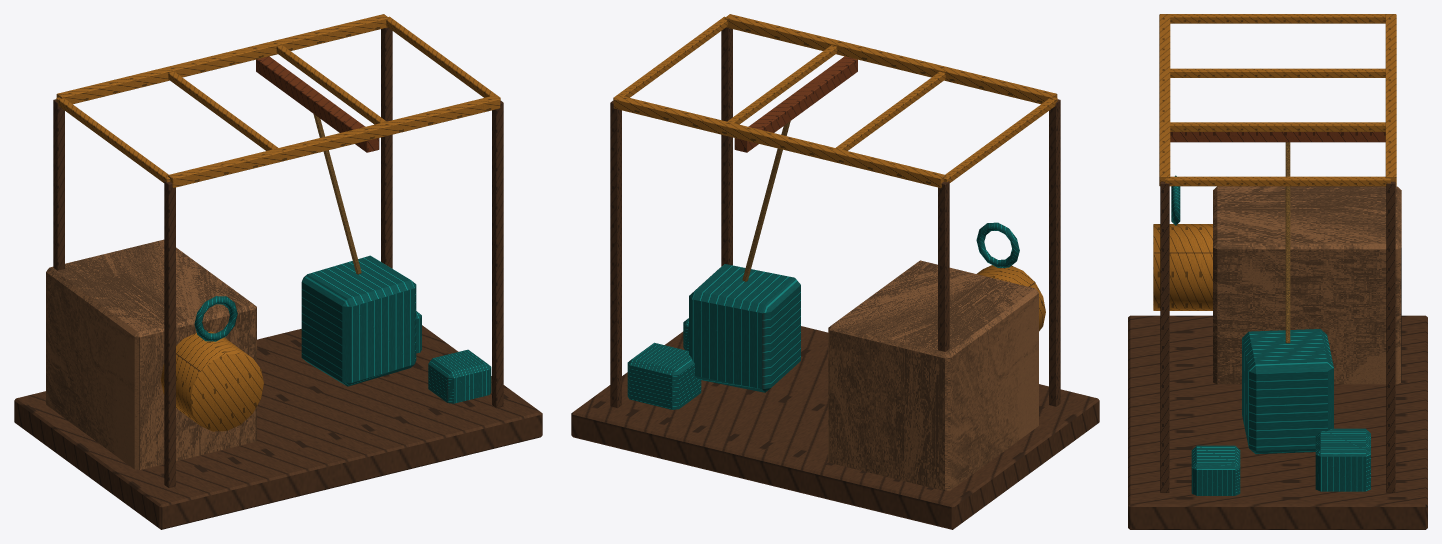
File: ice-quarry-head.glb
The picture shows the model from 3 angles, left to right: view 1: azimuth 30°, elevation 25°; view 2: azimuth 150°, elevation 25°; view 3: azimuth 270°, elevation 25°; orthographic projection.
Visible parts, largest first — view 1: ice-quarry-head; view 2: ice-quarry-head; view 3: ice-quarry-head.
Boxes of the visible parts, box(x1,y1,x2,y2) form: ice-quarry-head: box(14, 14, 542, 529); ice-quarry-head: box(571, 14, 1099, 529); ice-quarry-head: box(1128, 14, 1427, 529).
Size of the model in its own units: 5.38 by 4.49 by 3.58.
1 material, 1 textured.
